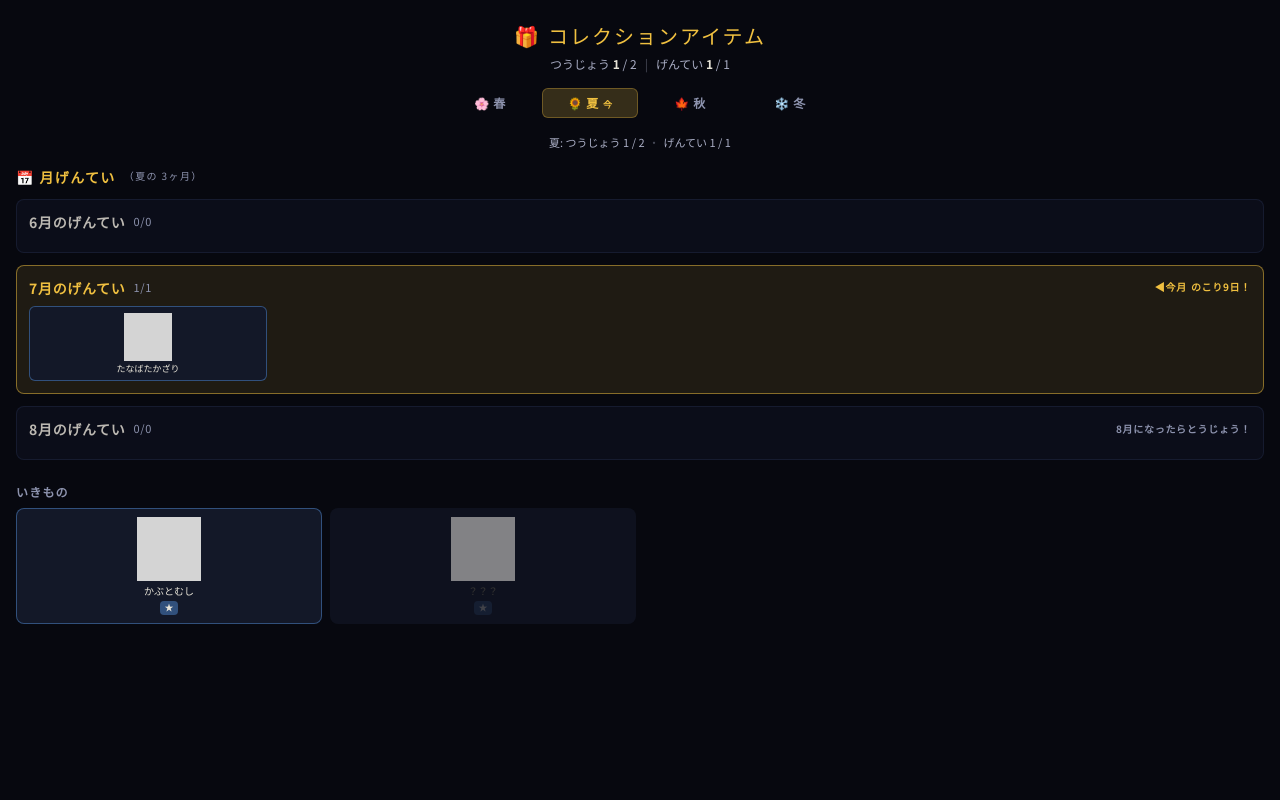
Test: ItemsContent: rubyEnabled配線（Issue #140） › 詳細モーダルの名前・説明もrubyEnabledに応じて切り替わること（true）
This screenshot has width=1280, height=800.
Click the button with alt text "かぶとむし": (169, 566) x1=16 y1=508 x2=322 y2=624
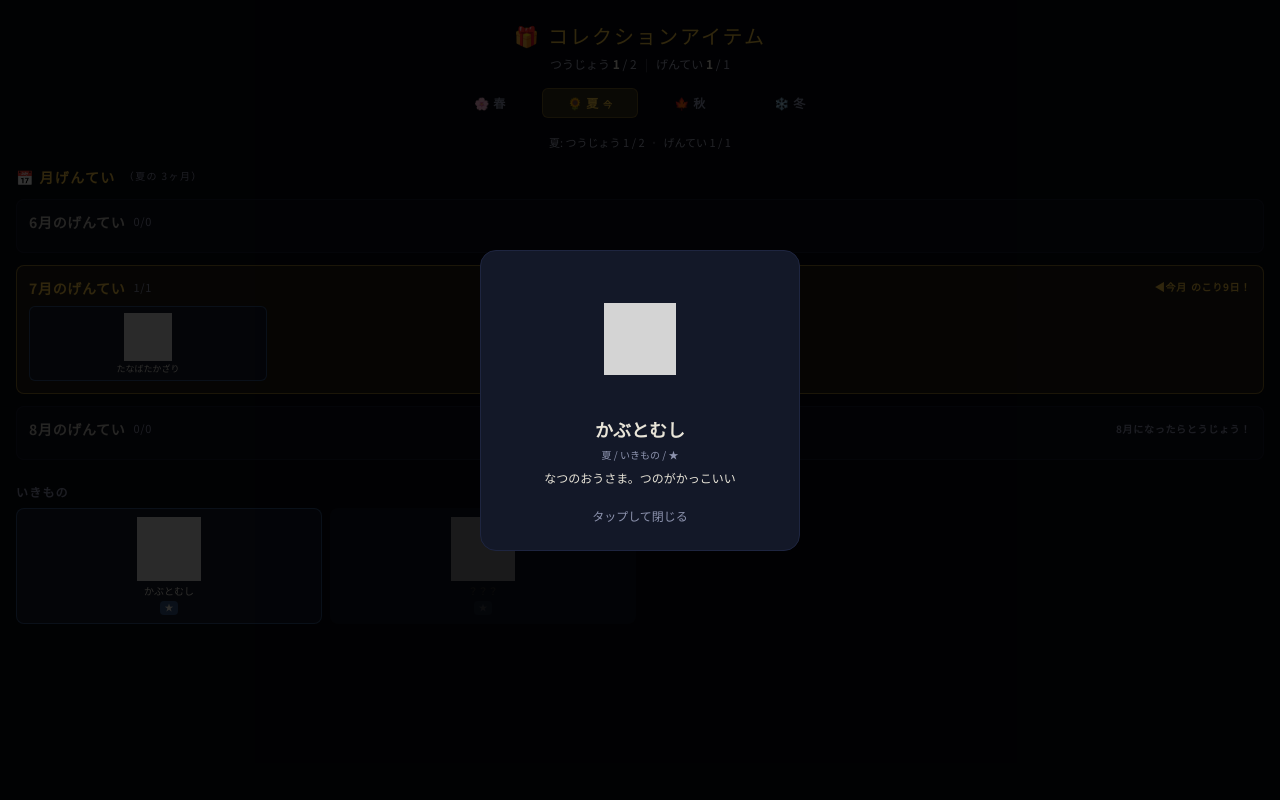
Result: the text "なつのおうさま。つのがかっこいい" is shown at x1=544 y1=468 x2=736 y2=486
